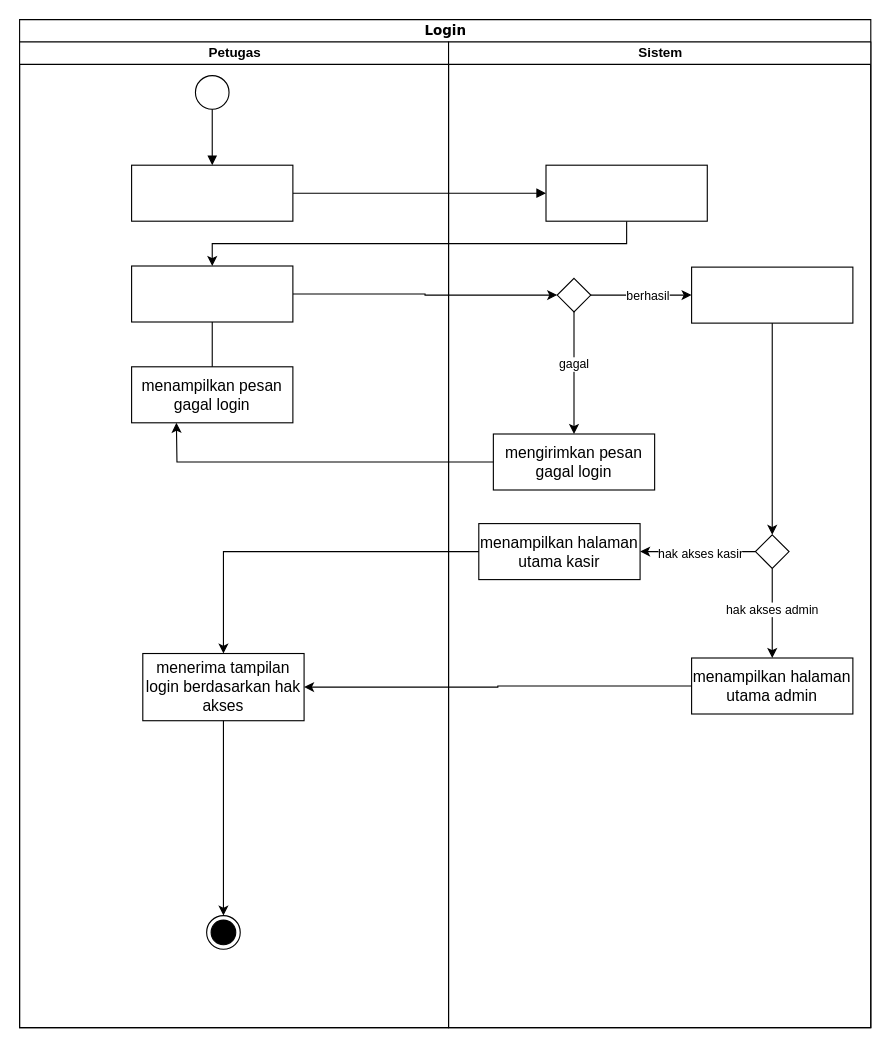
Some shapes in this 890 by 1047 pixel diagram are drawn without their labels. Each missing label, with the centre of its shape:
"input username dan password" belongs at [211,293].
"klik login" belongs at [211,192].
"memeriksa hak akses" belongs at [771,294].
"menampilkan halaman login" belongs at [626,192].
